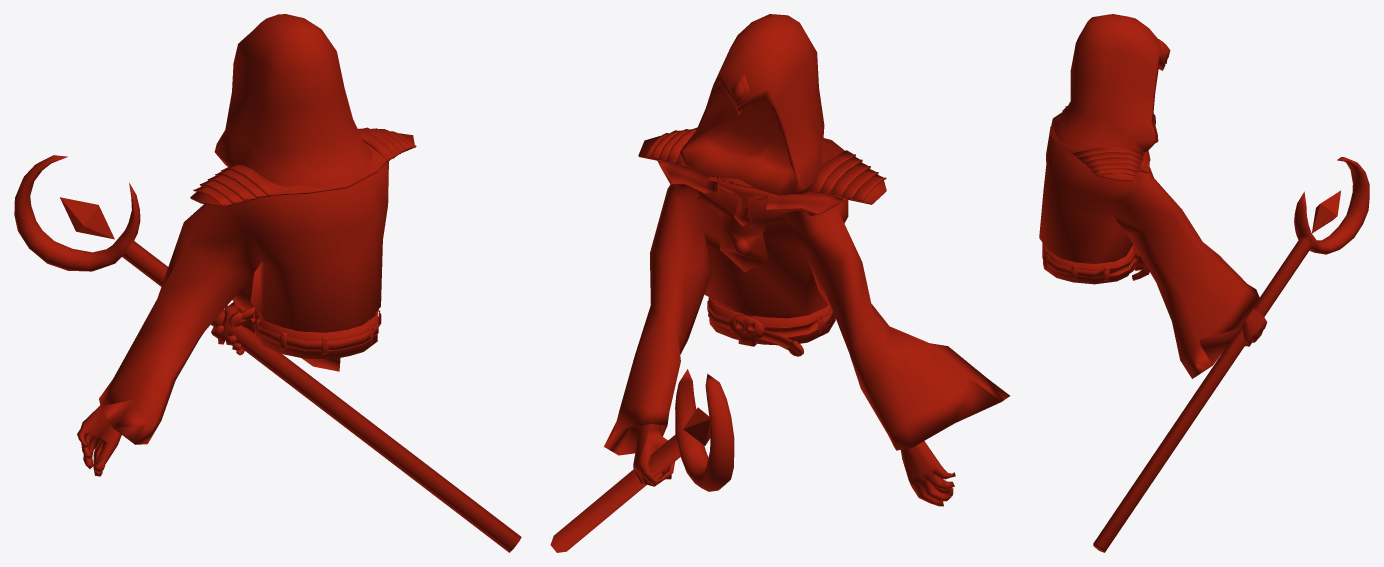
Rendered from top_000156.obj.
The picture shows the model from 3 angles, left to right: view 1: azimuth 30°, elevation 25°; view 2: azimuth 150°, elevation 25°; view 3: azimuth 270°, elevation 25°; orthographic projection. The views are drawn at different scales.
Parts seen in each view (by area): view 1: LowPoly_Warlock.000_Plane.005; view 2: LowPoly_Warlock.000_Plane.005; view 3: LowPoly_Warlock.000_Plane.005.
Boxes of the visible parts, x1,y1,x2,y2 form: LowPoly_Warlock.000_Plane.005: [14, 14, 521, 552]; LowPoly_Warlock.000_Plane.005: [550, 14, 1009, 552]; LowPoly_Warlock.000_Plane.005: [1039, 14, 1369, 552].
Bounding box in the file's own units: 1.51 × 1.97 × 1.3.
